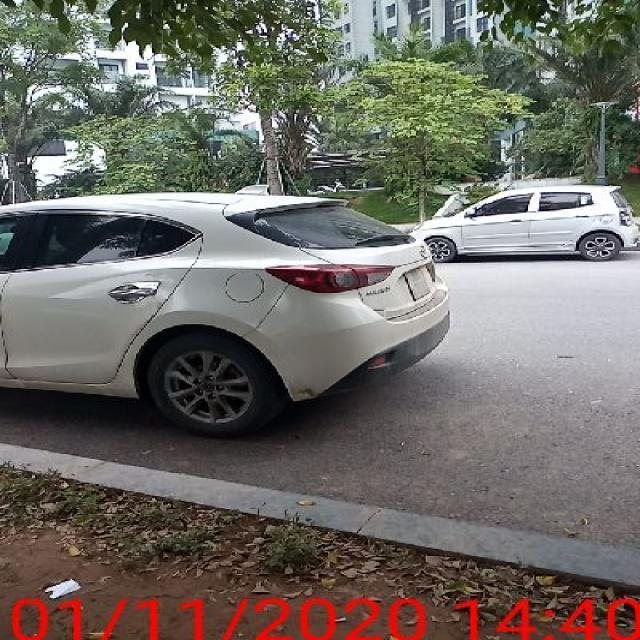bien_so_oto: (404, 266, 432, 302)
